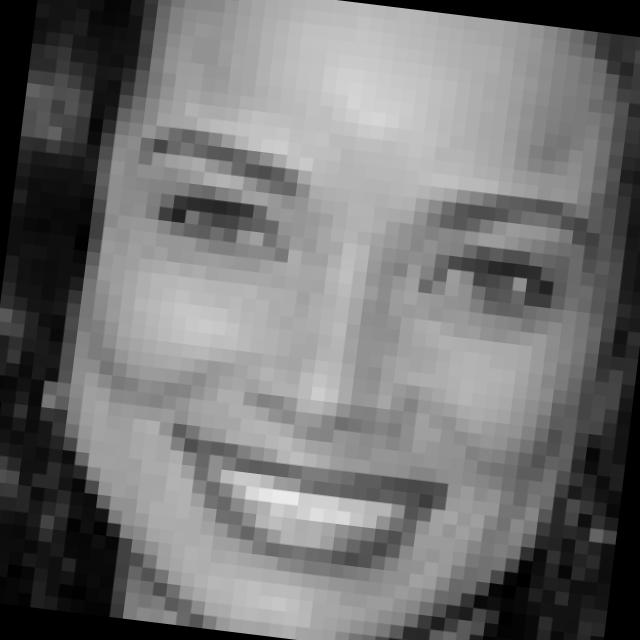happy: (88, 114, 612, 606)
